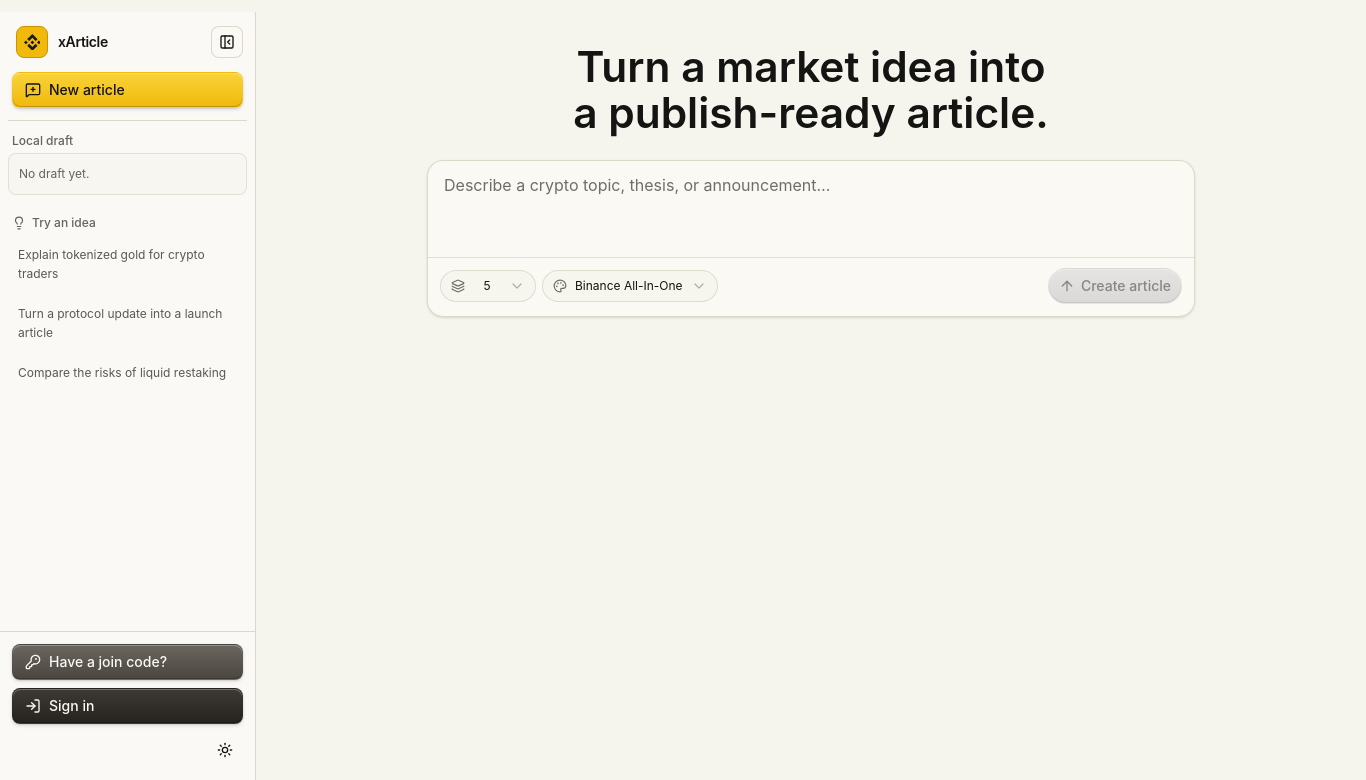
PublicHome › keeps the primary and footer actions visible when the desktop rail is collapsed
Click the button named "Close article navigation" at point(227, 42), box [211,26,243,58]
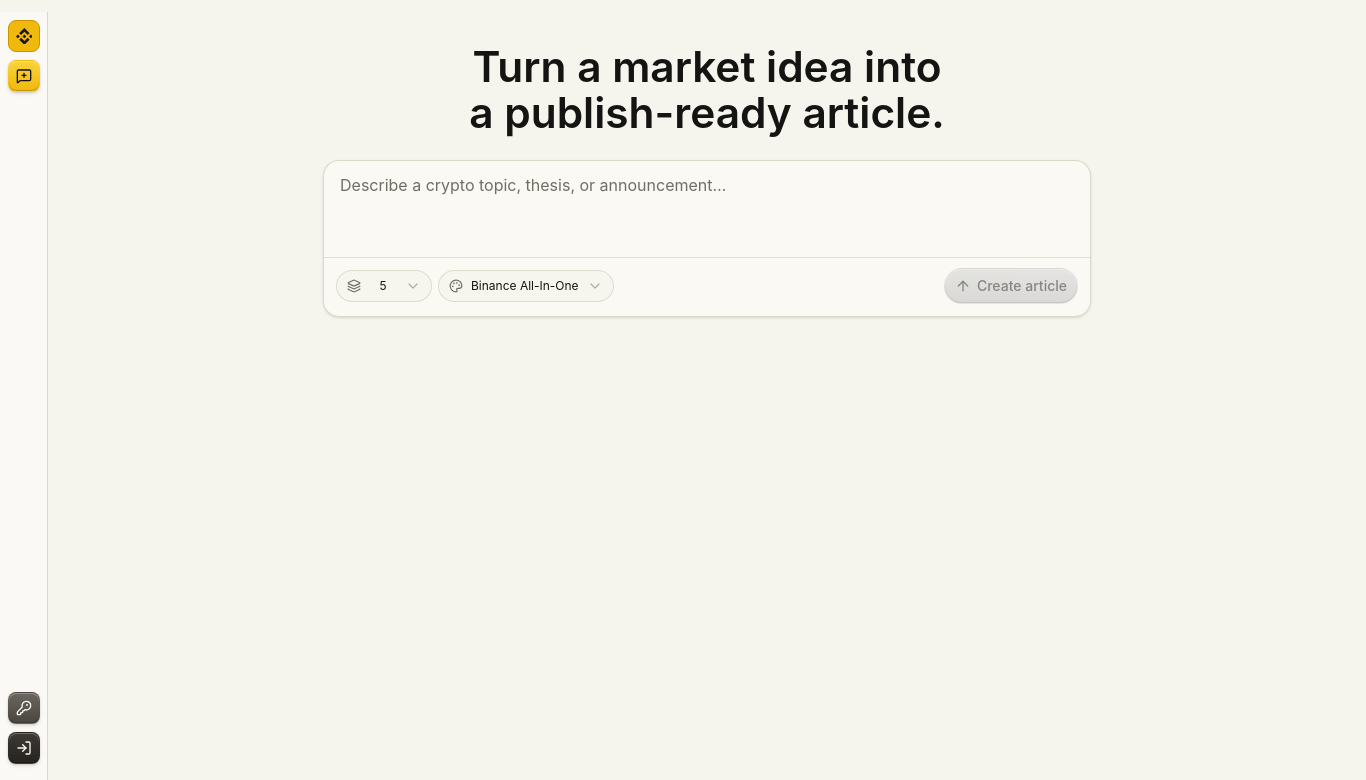
Check: the button named "Open article navigation" is collapsed
Check: the link "xArticle" is gone
Hover over the button named "Open article navigation" at point(24, 36), box [8,20,40,52]
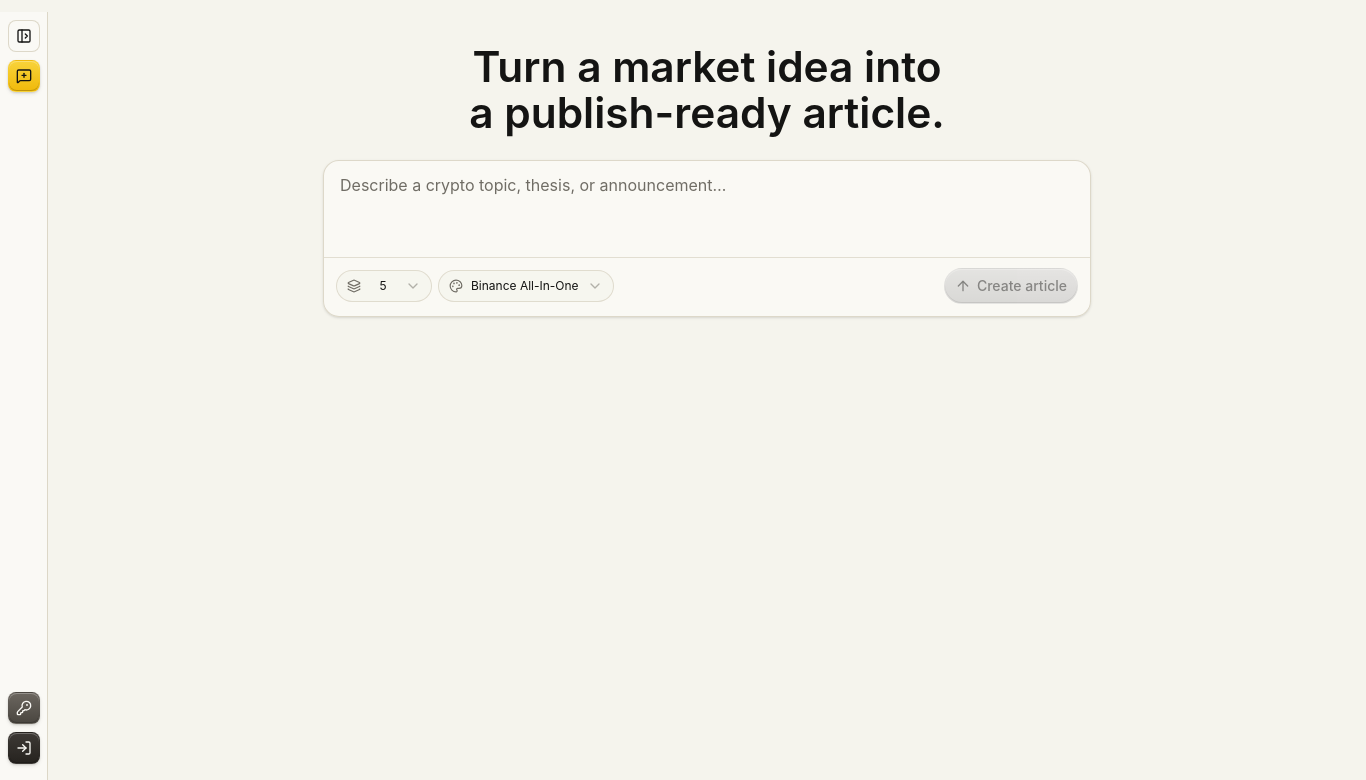
Check: the button named "Open article navigation" has attribute data-visual="open"
Move the pointer off the button named "Open article navigation", box [8,20,40,52]
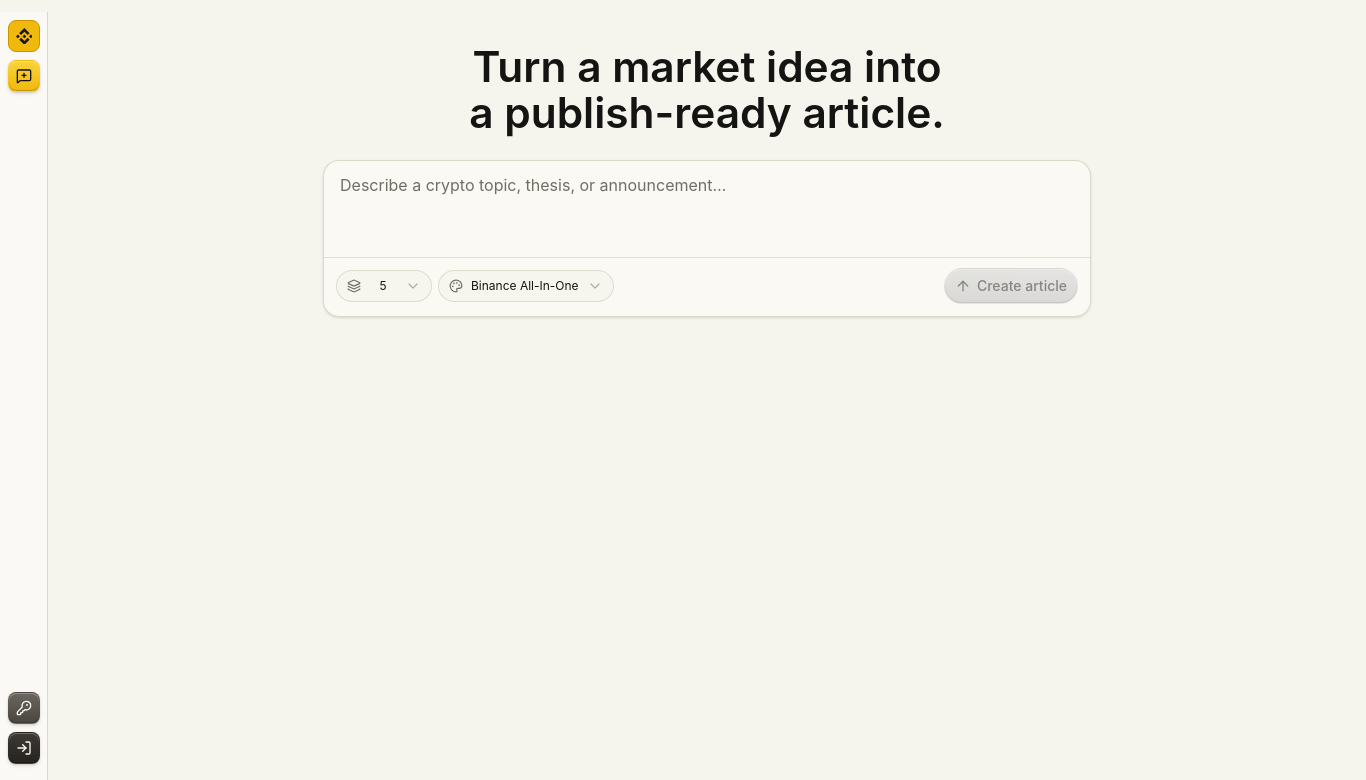
Check: the button named "Open article navigation" has attribute data-visual="logo", box [8,20,40,52]
